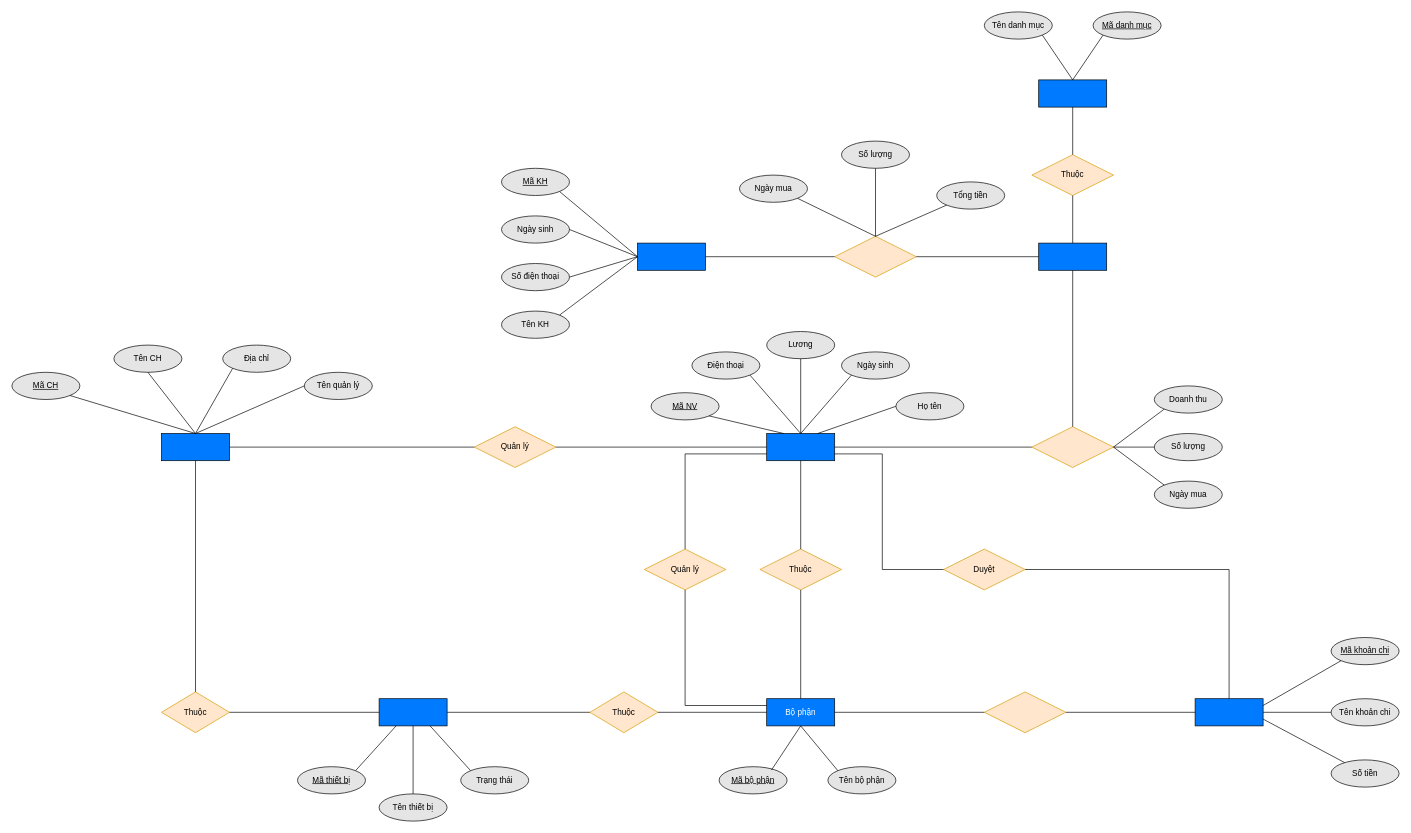
The diagram is 1411 pixels wide and 833 high, and some of its shapes have lost their labels. Each missing label, with the centre of its shape:
"Bán" goes at [1072,447].
"Chi" goes at [1025,712].
"Chi phí" goes at [1228,712].
"Cửa hàng" goes at [195,447].
"Danh mục SP" goes at [1072,93].
"Khách hàng" goes at [671,256].
"Mua" goes at [875,256].
"Nhân viên" goes at [800,447].
"Sản phẩm" goes at [1072,256].
"Thiết bị nội bộ" goes at [412,712].
